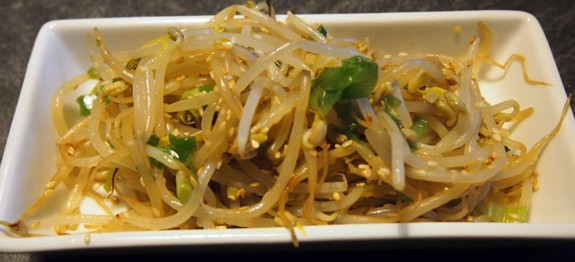mung_bean_sprouts: (134, 30, 467, 224)
